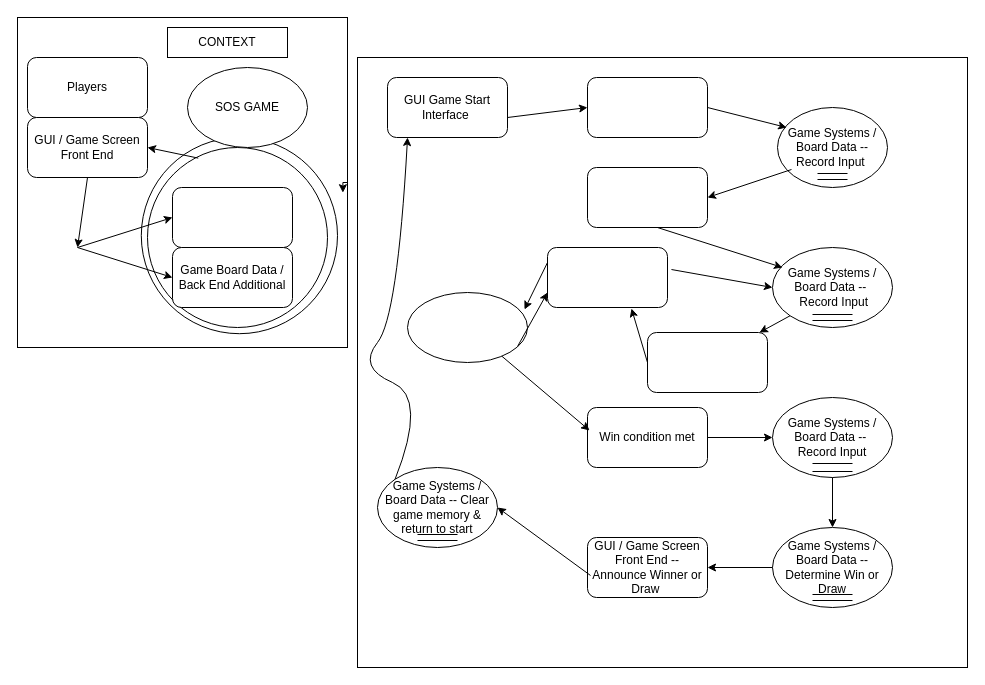
This 985x685 diagram has some shape labels left out. The centre of each missing label's shape, as x and y in pixels:
Game Systems / Board Data -- Check for win condition: (x=467, y=327)
GUI / Game Screen Front End -- Show updated board state: (x=707, y=362)
Player Input Game mode / Game board size: (x=647, y=107)
Player Input S or O: (x=647, y=197)
Repeat Player Input Cycle until win condition met: (x=607, y=277)
SOS Game Systems / Back End: (x=232, y=217)
